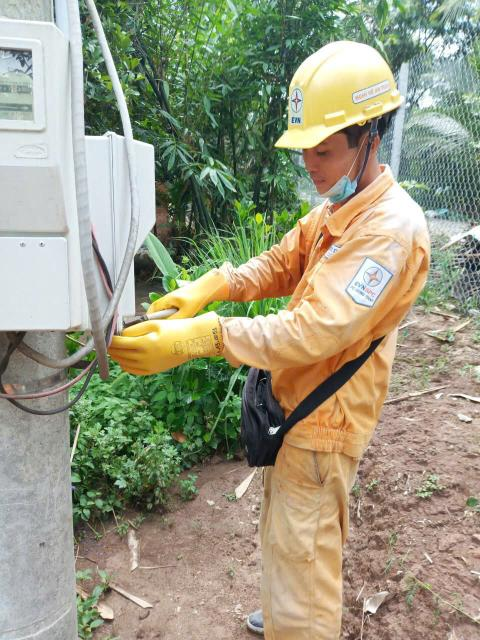gloves: (93, 310, 243, 372), (129, 268, 258, 320)
helmet: (270, 35, 413, 153)
